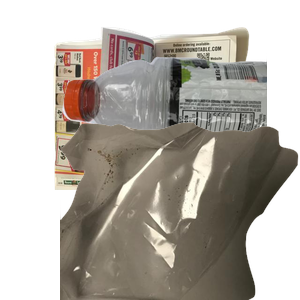glass: (66, 120, 279, 300)
paper: (51, 24, 291, 204)
plastic: (60, 53, 300, 201)
trash: (60, 120, 300, 300)
